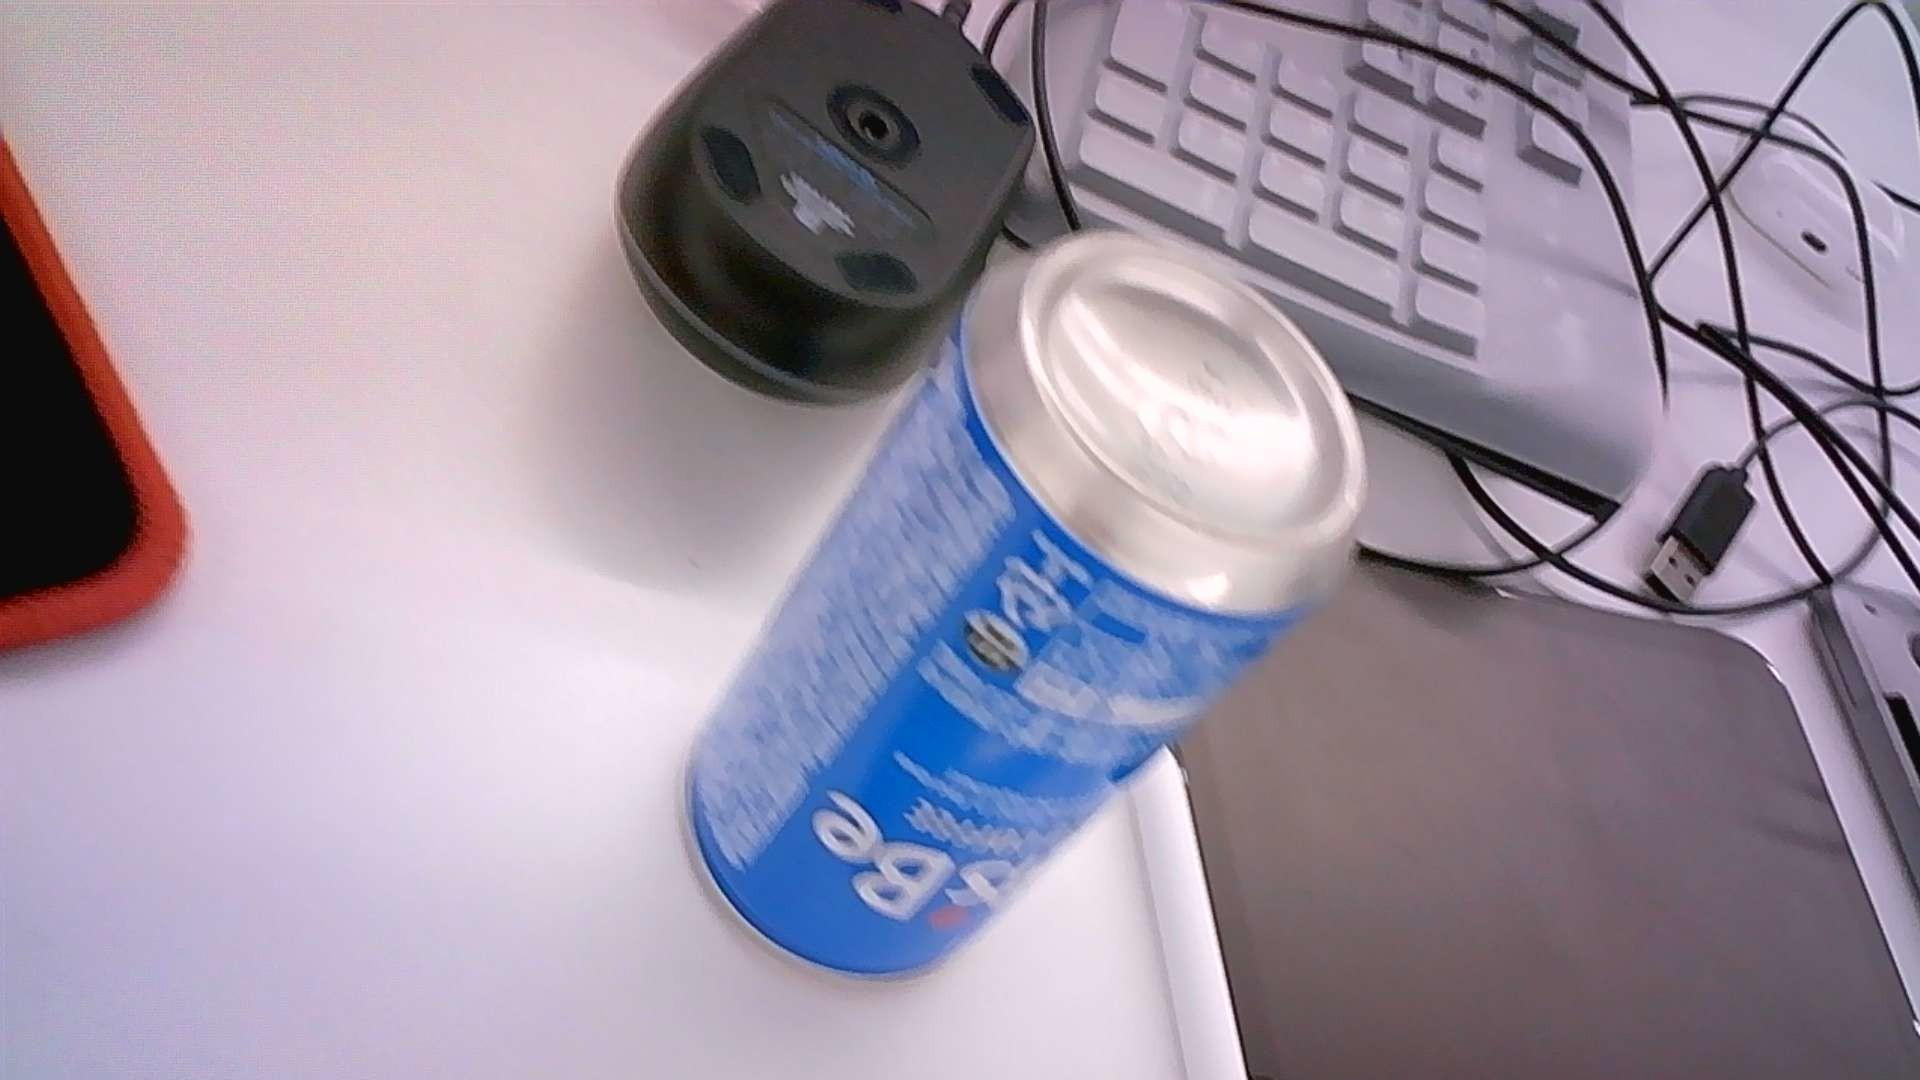letsbe: (686, 228, 1366, 985)
